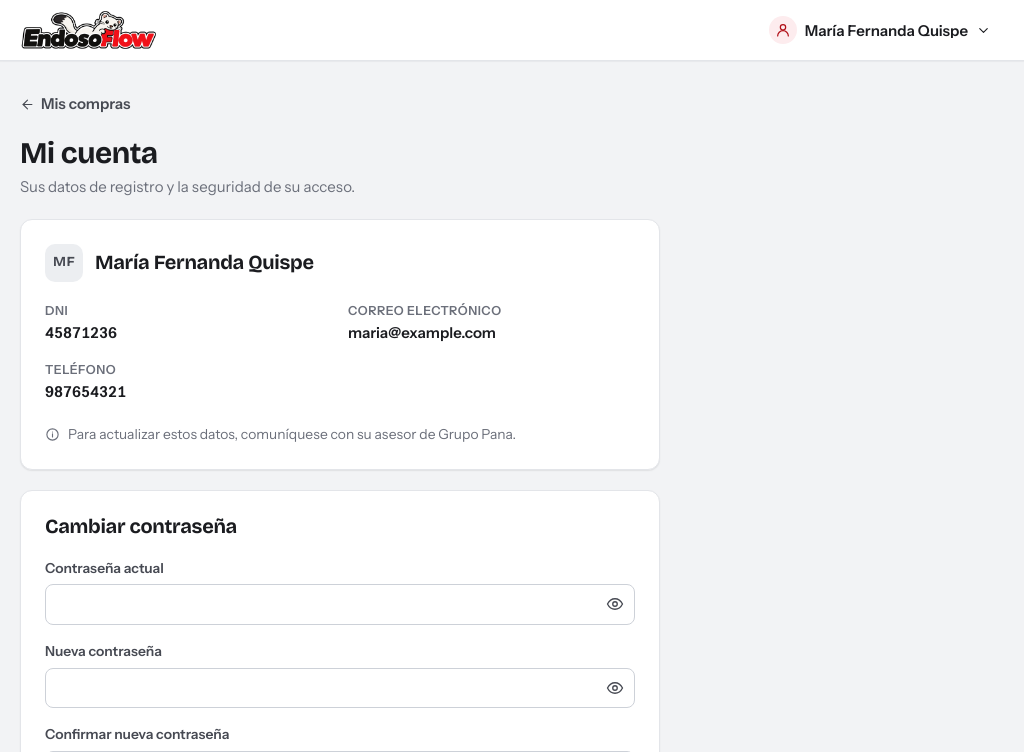
it: my account › keeps the button off until the new password is acceptable
Type "vieja-clave-1" into the password field labelled "Contraseña actual". click: (340, 605)
box: x1=45 y1=584 x2=635 y2=625
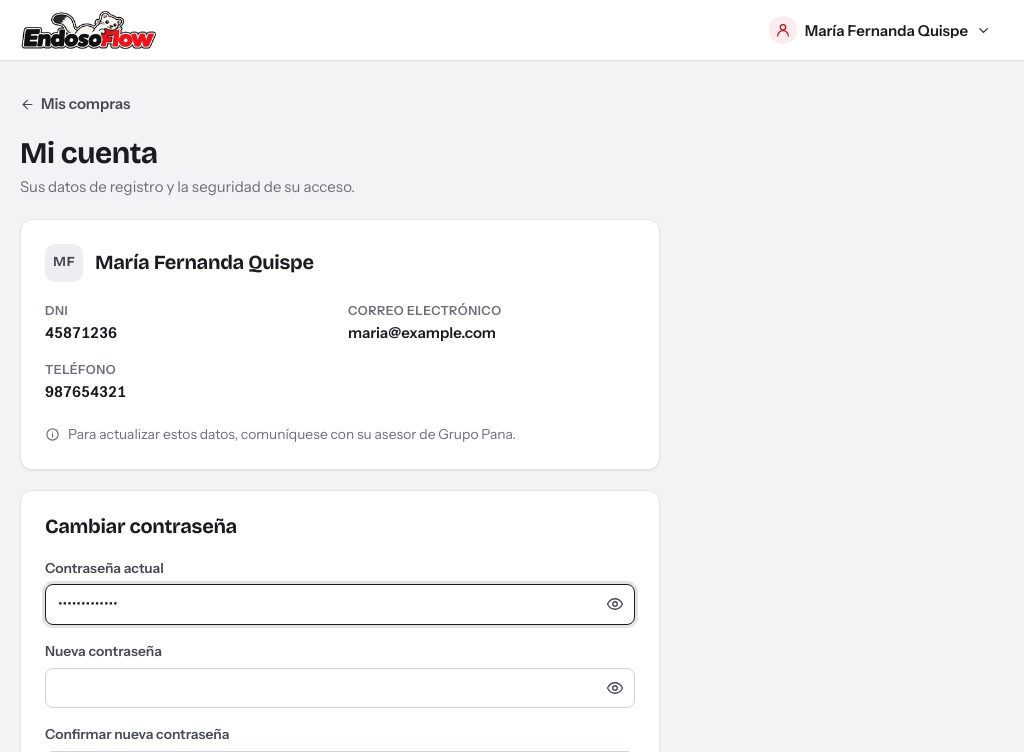
Type "corta" into the password field labelled "Nueva contraseña". click: (340, 688)
box: x1=45 y1=668 x2=635 y2=708
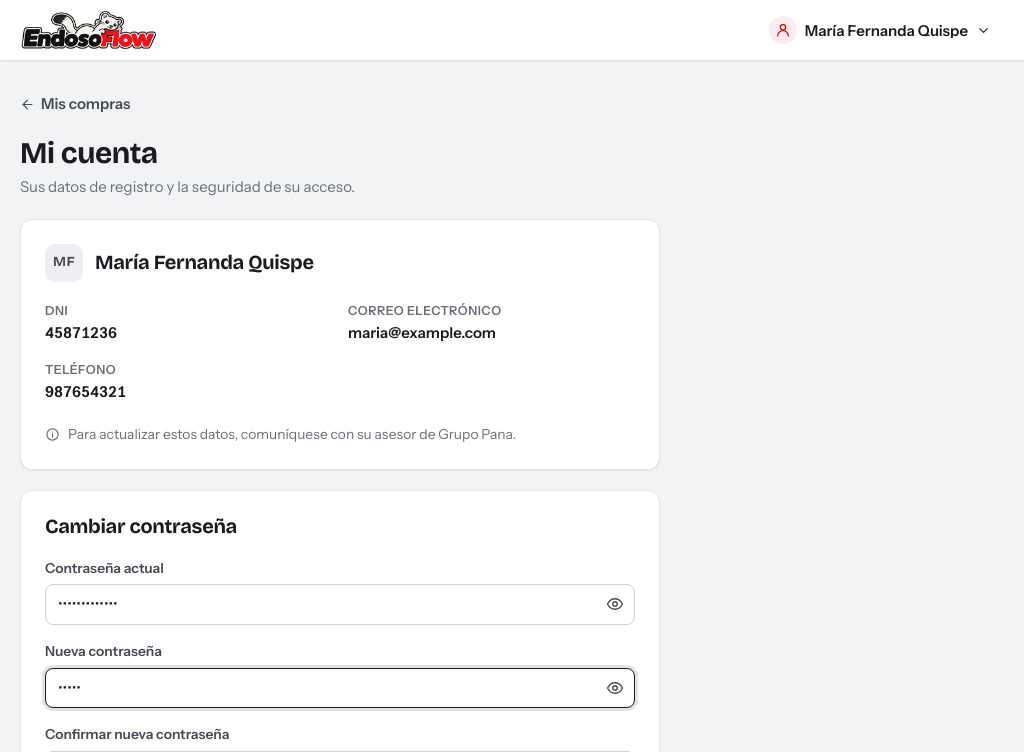
Type "-y-larga-123" into the password field labelled "Nueva contraseña". click: (340, 688)
box: x1=45 y1=668 x2=635 y2=708
(page scrolled)
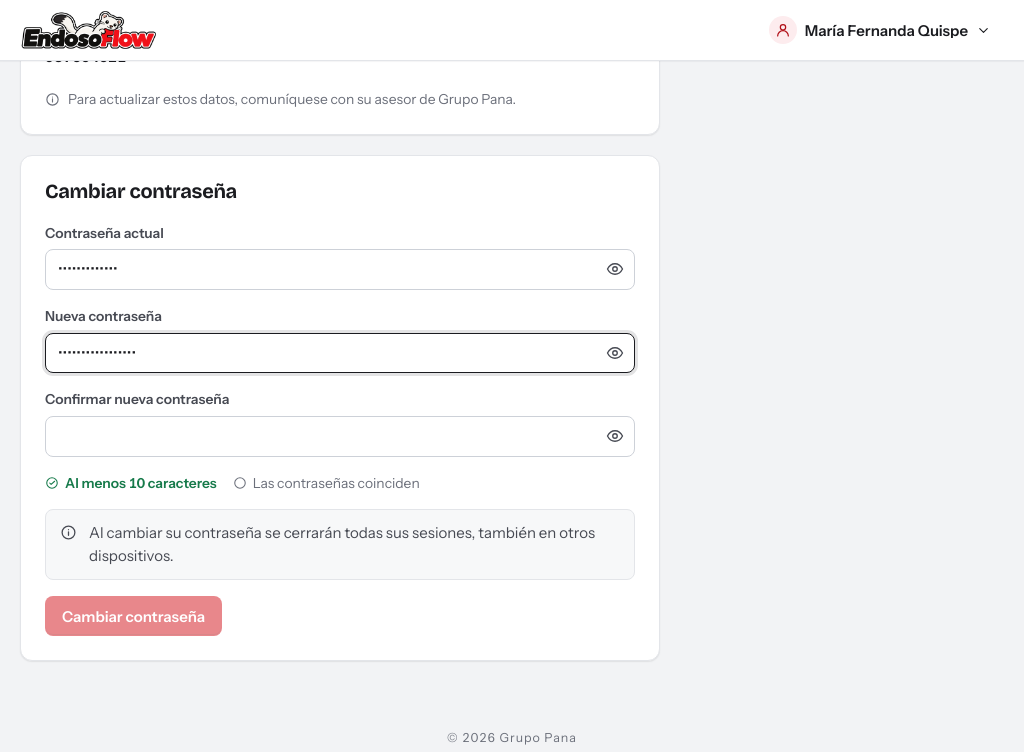
Type "corta-y-larga-123" into the password field labelled "Confirmar nueva contraseña". click: (340, 436)
box: x1=45 y1=416 x2=635 y2=456
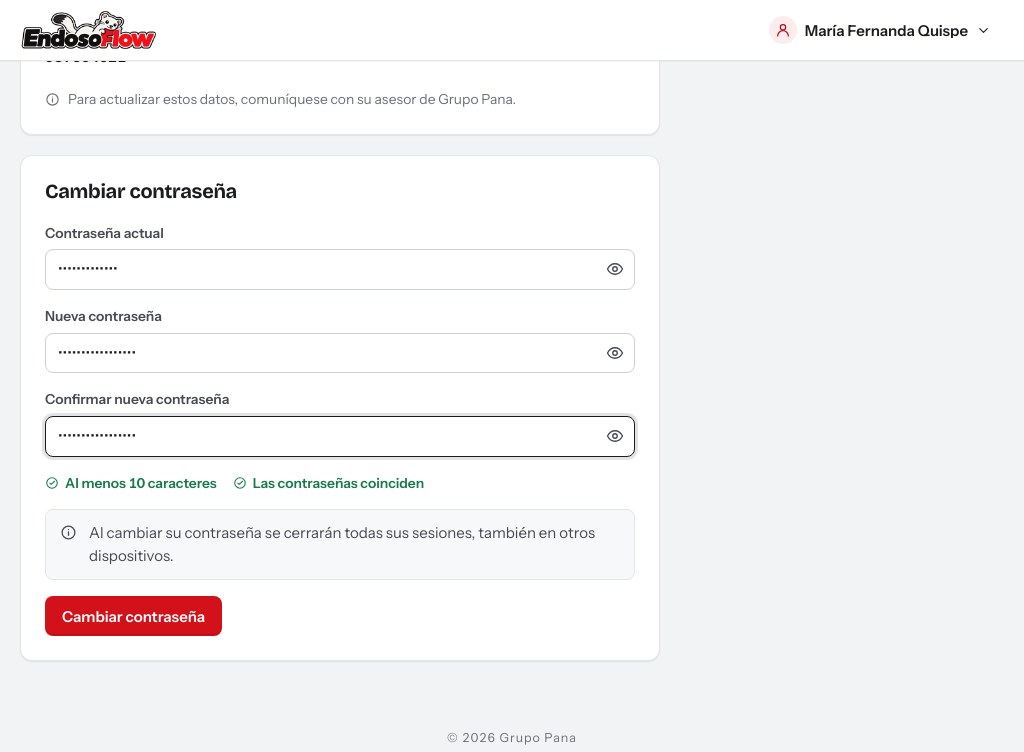
Expected: the button "Cambiar contraseña" is enabled, x1=45 y1=596 x2=222 y2=636
